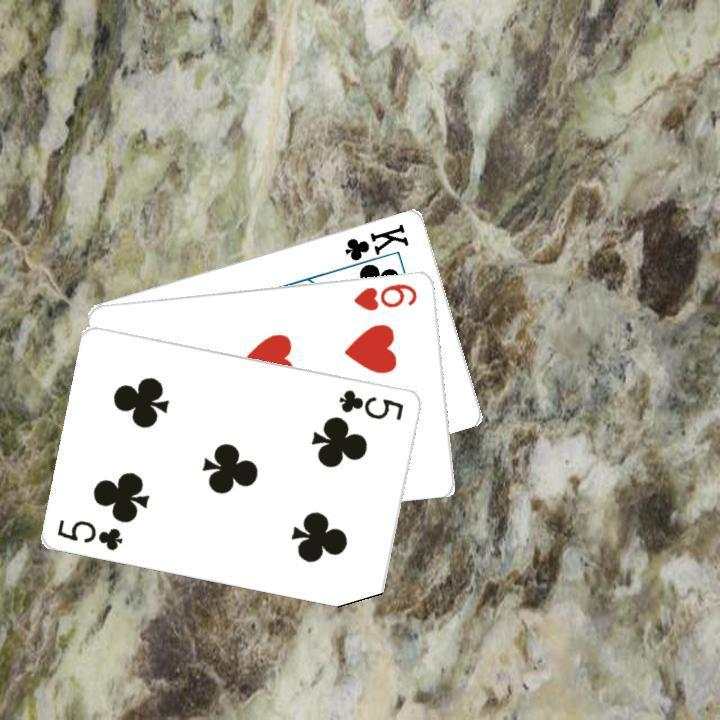5: (53, 515, 126, 553), (335, 385, 407, 422)
6: (350, 278, 420, 312)
K: (339, 219, 411, 272)
